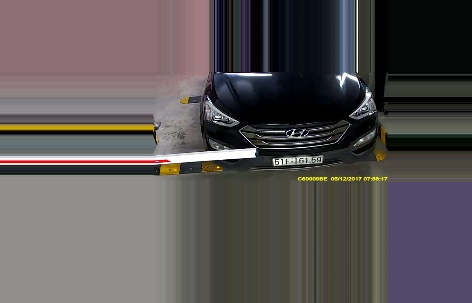plate: (269, 153, 323, 168)
